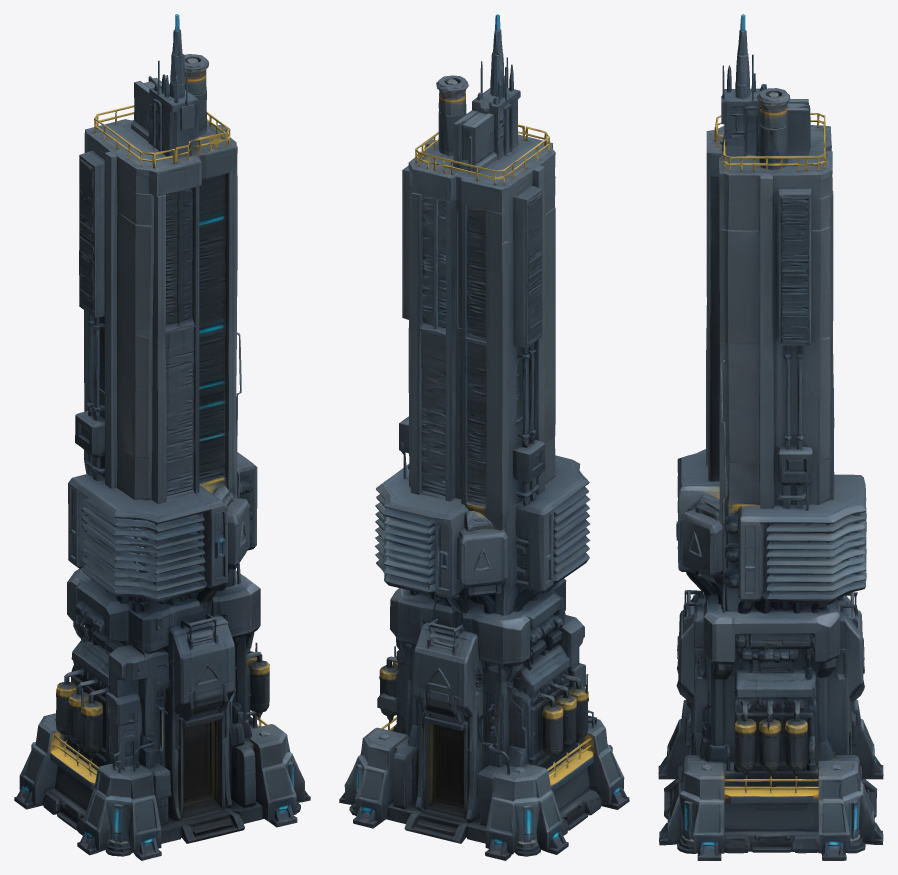
The model's file is scene-detail.glb.
The picture shows the model from 3 angles, left to right: view 1: azimuth 30°, elevation 25°; view 2: azimuth 150°, elevation 25°; view 3: azimuth 270°, elevation 25°; orthographic projection. The views are drawn at different scales.
Parts seen in each view (by area): view 1: model; view 2: model; view 3: model.
Part boxes in pixels (<box>): model: <box>14,14,310,860</box>; model: <box>339,14,629,860</box>; model: <box>658,14,883,860</box>.
Size of the model in its own units: 0.5549 by 1.89 by 0.4874.
Materials: 1 (1 with a texture image).
